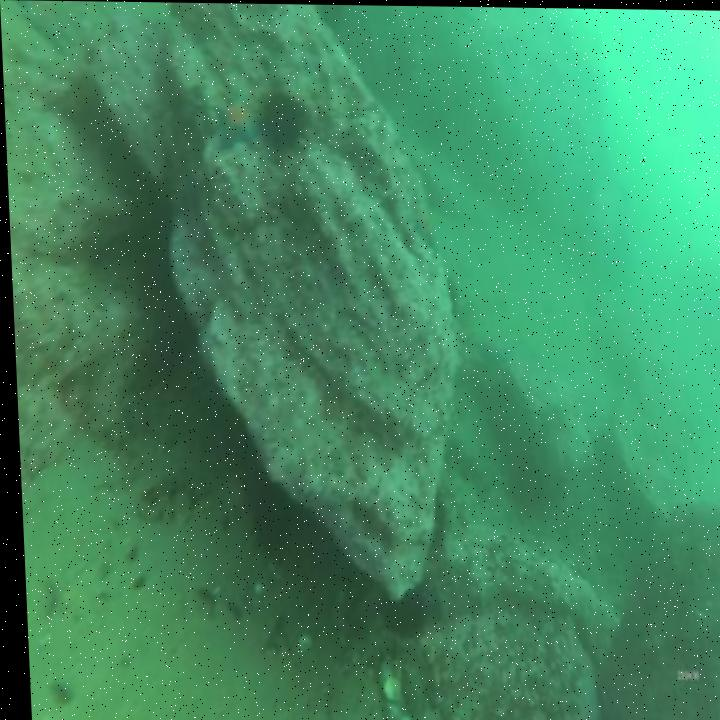echinus: (258, 92, 303, 147), (378, 585, 420, 636)
starfish: (212, 91, 258, 150)
